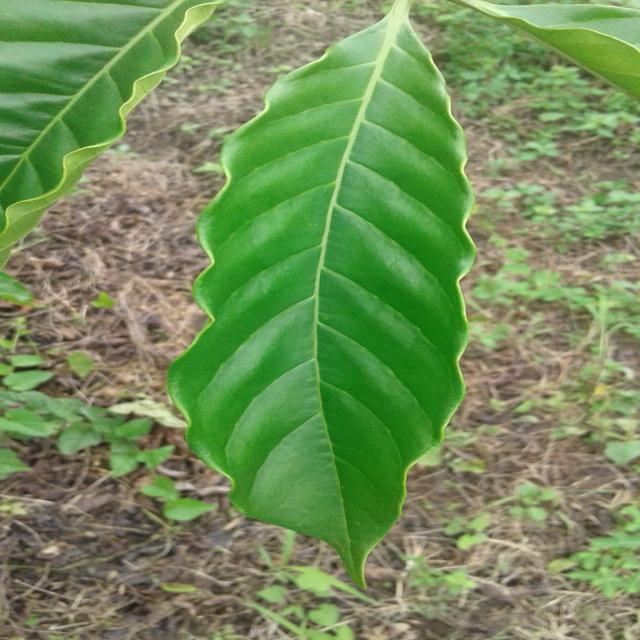Sanas: (166, 0, 477, 592)
